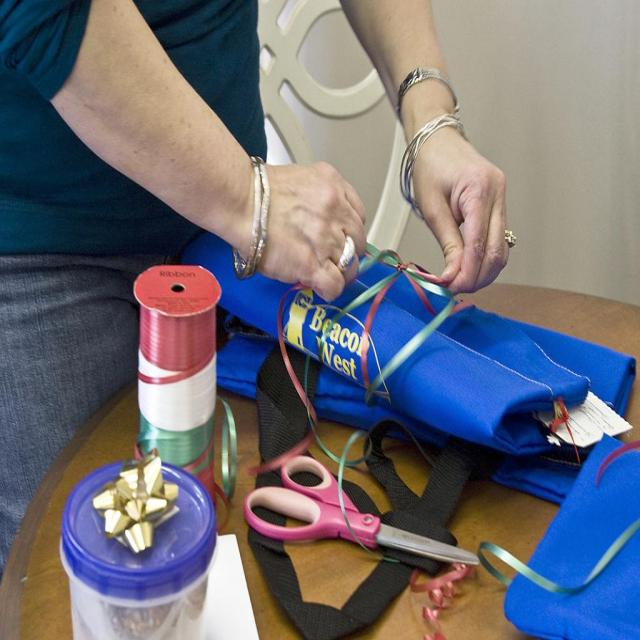scissor: (244, 457, 480, 564)
